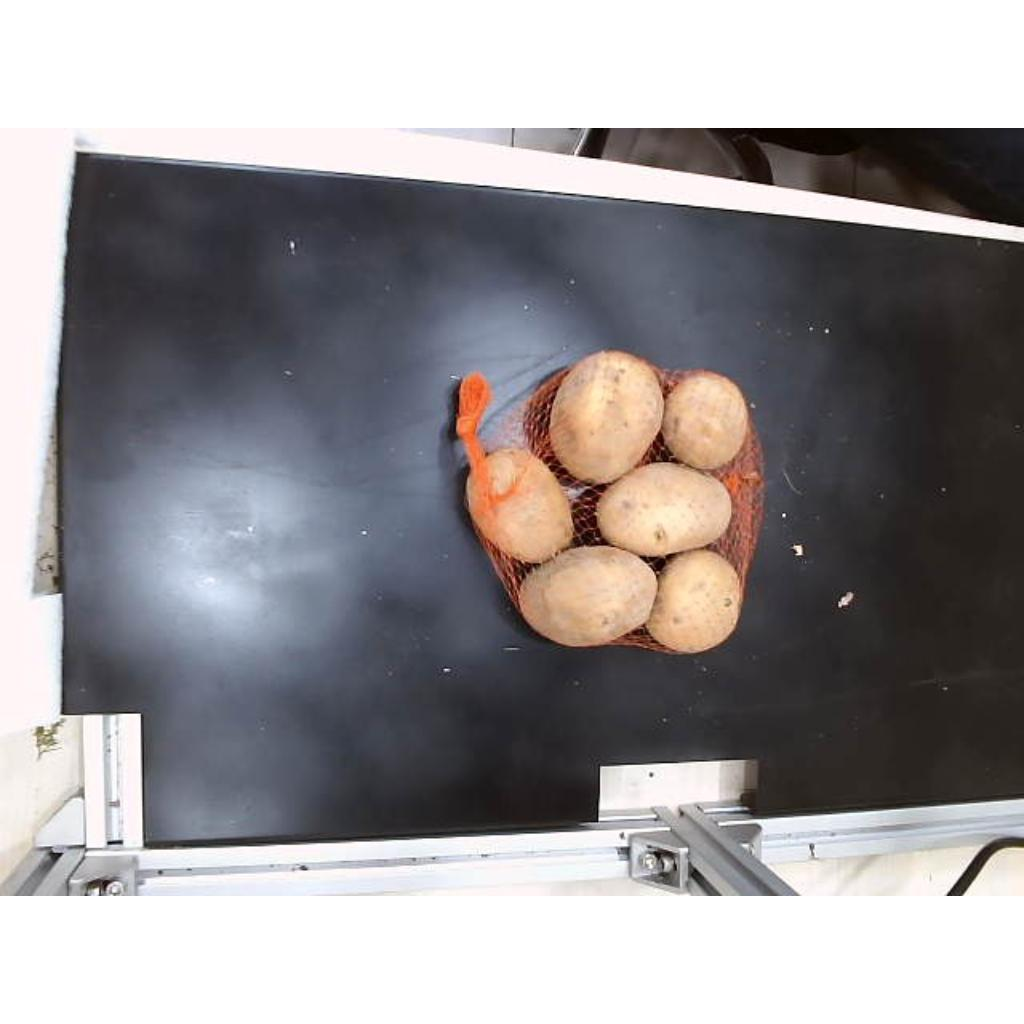potato: (550, 350, 664, 483), (518, 546, 658, 646), (596, 462, 732, 556), (468, 448, 572, 563), (646, 548, 742, 652), (662, 372, 748, 469)
